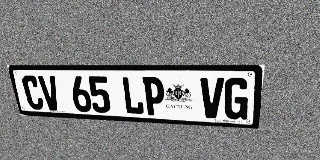5: (88, 76, 112, 113)
6: (69, 76, 93, 112)
C: (21, 75, 45, 110)
G: (223, 78, 250, 120)
L: (121, 76, 144, 115)
P: (142, 77, 165, 116)
V: (200, 77, 224, 119), (38, 76, 62, 111)
